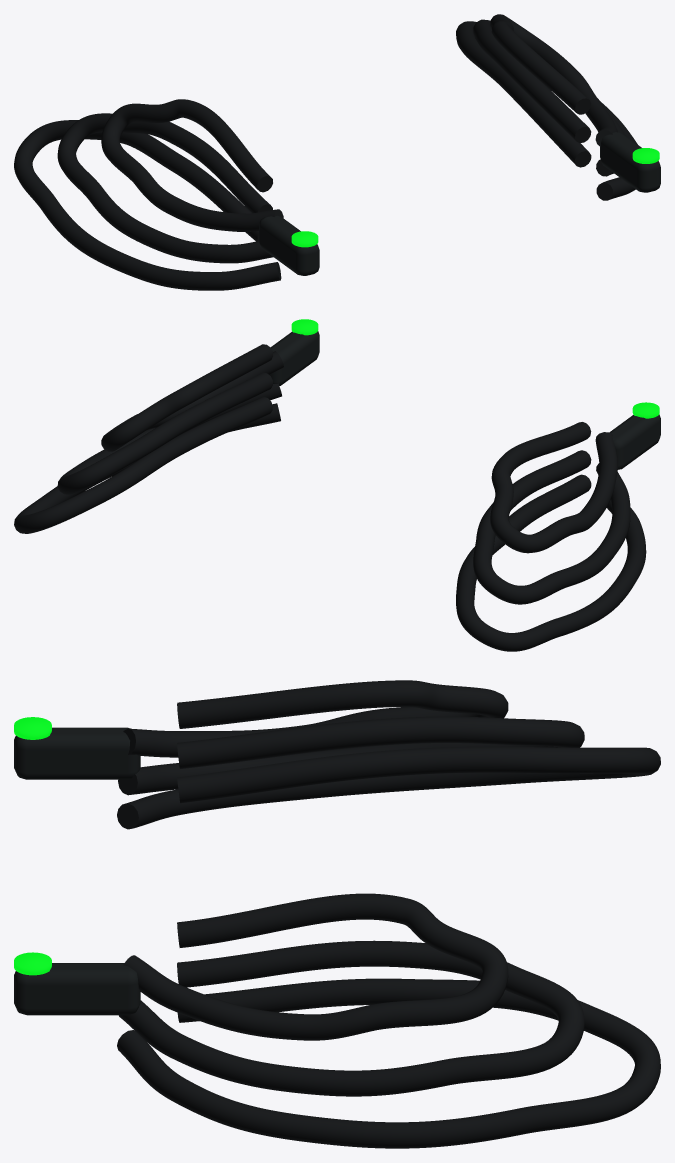
File: bomba_pecas.glb
3 renders of one model, top to bottom at view 1: azimuth 30°, elevation 25°; view 2: azimuth 150°, elevation 25°; view 3: azimuth 270°, elevation 25°, orthographic. The views are drawn at different scales.
Parts seen in each view (by area): view 1: ch_cabo1_0, ch_cabo1_1, ch_cabo1_2, ch_cabo-1_2, ch_cabo-1_0, ch_cabo-1_1, ch_plug1, ch_plug-1; view 2: ch_cabo1_0, ch_cabo1_1, ch_cabo1_2, ch_cabo-1_0, ch_cabo-1_1, ch_cabo-1_2, ch_plug1, ch_plug-1; view 3: ch_cabo-1_0, ch_cabo-1_1, ch_cabo1_0, ch_cabo-1_2, ch_cabo1_1, ch_cabo1_2, ch_plug-1, ch_plug1, ch_plug_anel-1, ch_plug_anel1.
Boxes of the visible parts, x1,y1,x2,y2 form: ch_cabo1_0: (14, 120, 281, 290); ch_cabo1_1: (57, 113, 273, 263); ch_cabo1_2: (101, 99, 283, 231); ch_cabo-1_2: (490, 14, 617, 146); ch_cabo-1_0: (456, 21, 637, 200); ch_cabo-1_1: (473, 19, 625, 176); ch_plug1: (259, 216, 319, 275); ch_plug-1: (600, 132, 660, 192); ch_cabo1_0: (456, 474, 646, 651); ch_cabo1_1: (473, 450, 630, 604); ch_cabo1_2: (490, 422, 617, 553); ch_cabo-1_0: (14, 397, 280, 533); ch_cabo-1_1: (57, 372, 281, 494); ch_cabo-1_2: (101, 344, 283, 451); ch_plug1: (609, 414, 660, 469); ch_plug-1: (269, 331, 319, 385); ch_cabo-1_0: (117, 978, 660, 1148); ch_cabo-1_1: (119, 940, 584, 1096); ch_cabo1_0: (117, 746, 660, 829); ch_cabo-1_2: (123, 893, 508, 1040); ch_cabo1_1: (118, 716, 584, 795); ch_cabo1_2: (123, 680, 508, 757); ch_plug-1: (14, 963, 140, 1015); ch_plug1: (14, 727, 140, 779); ch_plug_anel-1: (14, 952, 51, 975); ch_plug_anel1: (14, 717, 51, 739).
Size of the model in its own units: 1.38 by 0.3152 by 1.02.
